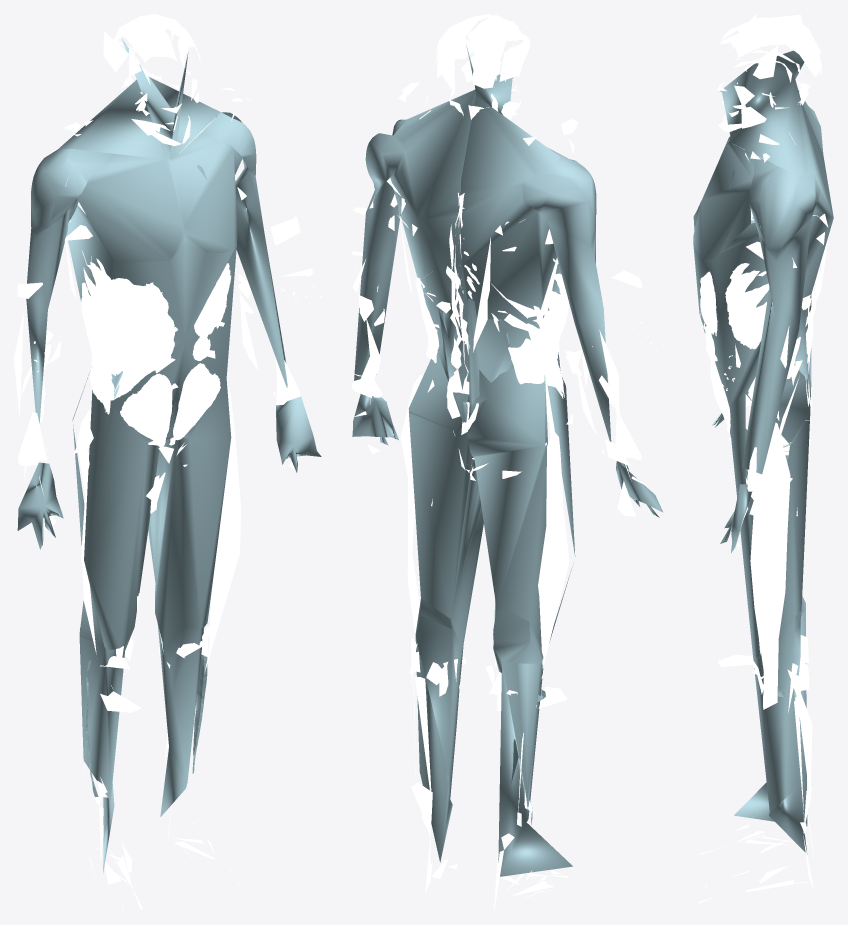
File: Muscular.glb
3 views of the same model, side by side, from view 1: azimuth 30°, elevation 25°; view 2: azimuth 150°, elevation 25°; view 3: azimuth 270°, elevation 25° (orthographic). The views are drawn at different scales.
Parts seen in each view (by area): view 1: Superficial investing cervical fascia.l, External abdominal oblique muscle.l, Rectus abdominis muscle.l, Linea alba, Tendon sheath of extensor digitorum longus.l; view 2: Superficial investing cervical fascia.l, Rectus abdominis muscle.l, External abdominal oblique muscle.l, Tendon sheath of extensor digitorum longus.l, Linea alba; view 3: Superficial investing cervical fascia.l, Rectus abdominis muscle.l, External abdominal oblique muscle.l, Linea alba, Tendon sheath of extensor digitorum longus.l.
Part boxes in pixels (left/top/right/bottom): Superficial investing cervical fascia.l: left=17, top=38, right=321, bottom=873; External abdominal oblique muscle.l: left=14, top=24, right=266, bottom=895; Rectus abdominis muscle.l: left=24, top=14, right=298, bottom=910; Linea alba: left=17, top=216, right=322, bottom=712; Tendon sheath of extensor digitorum longus.l: left=18, top=357, right=300, bottom=795; Superficial investing cervical fascia.l: left=352, top=44, right=663, bottom=876; Rectus abdominis muscle.l: left=352, top=14, right=635, bottom=910; External abdominal oblique muscle.l: left=354, top=27, right=650, bottom=902; Tendon sheath of extensor digitorum longus.l: left=351, top=138, right=641, bottom=814; Linea alba: left=352, top=207, right=663, bottom=711; Superficial investing cervical fascia.l: left=693, top=50, right=833, bottom=853; Rectus abdominis muscle.l: left=698, top=17, right=828, bottom=910; External abdominal oblique muscle.l: left=700, top=14, right=826, bottom=892; Linea alba: left=717, top=302, right=809, bottom=690; Tendon sheath of extensor digitorum longus.l: left=747, top=447, right=769, bottom=491.
Size of the model in its own units: 20690 by 55391 by 8211.
